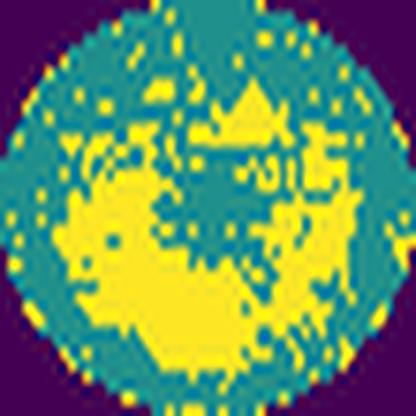Donut: (43, 62, 375, 390)
